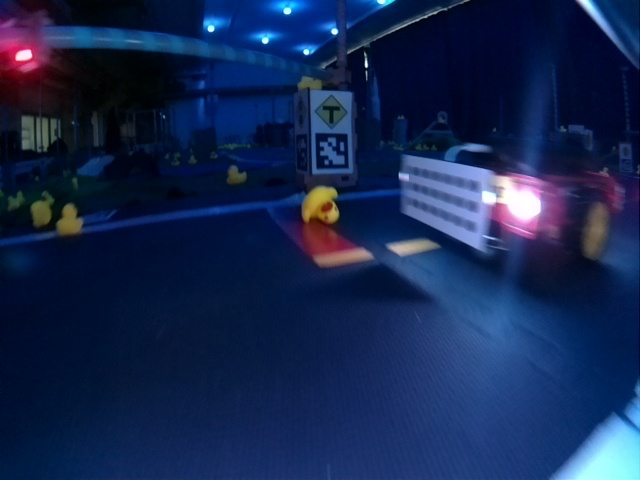Duckie: (303, 187, 338, 222), (58, 203, 83, 233), (30, 202, 51, 224), (300, 73, 321, 91), (226, 165, 245, 183)
Duckiebot: (399, 140, 610, 260)
Intersection sign: (314, 94, 347, 130)
QR code: (315, 132, 349, 171), (295, 133, 309, 173)
Signal sign: (294, 94, 308, 132)
Traffic light: (10, 13, 42, 73)
